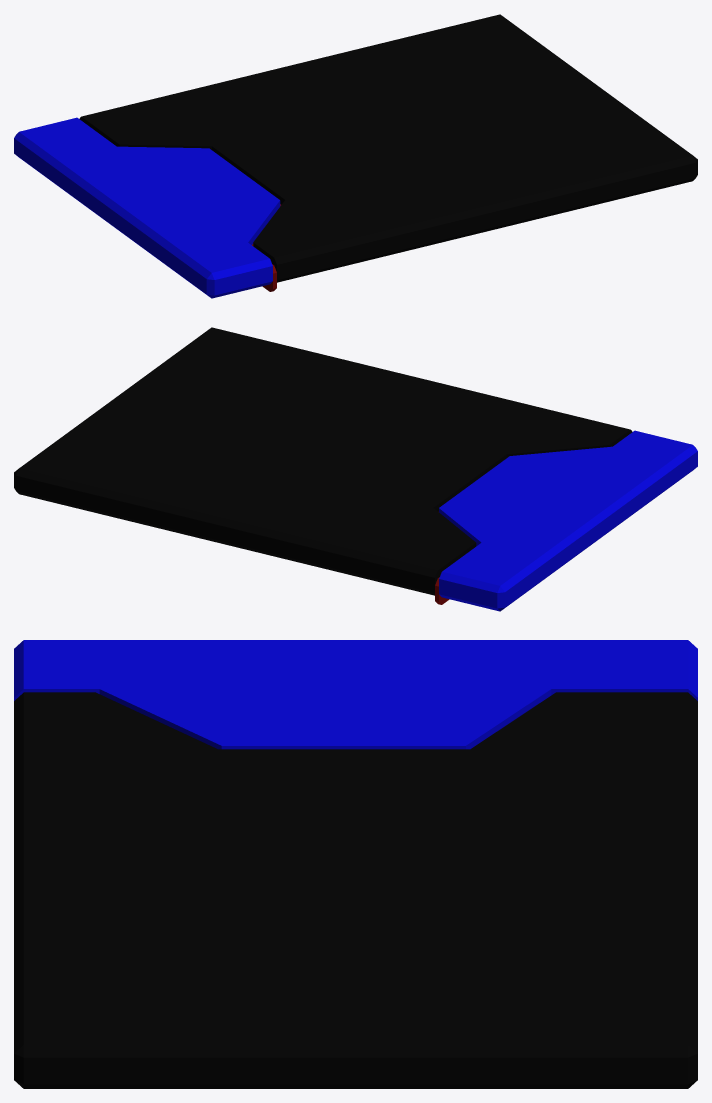
The model's file is movableinset_051R.fbx.
3 views of the same model, one above another, from view 1: azimuth 30°, elevation 25°; view 2: azimuth 150°, elevation 25°; view 3: azimuth 270°, elevation 25° (orthographic). The views are drawn at different scales.
Visible parts, largest first — view 1: obj3.002; view 2: obj3.002; view 3: obj3.002.
Boxes of the visible parts, x1,y1,x2,y2 form: obj3.002: (14,14,697,298); obj3.002: (14,327,697,611); obj3.002: (14,640,697,1088).
Bounding box in the file's own units: 2000 × 130 × 1400.
